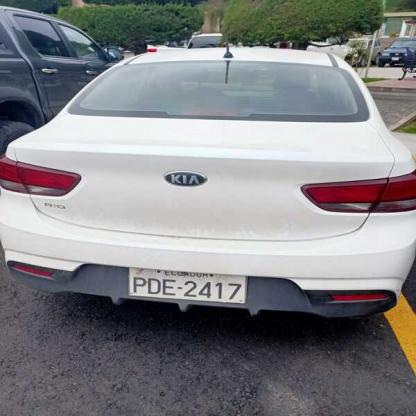Placa: (127, 261, 249, 306)
